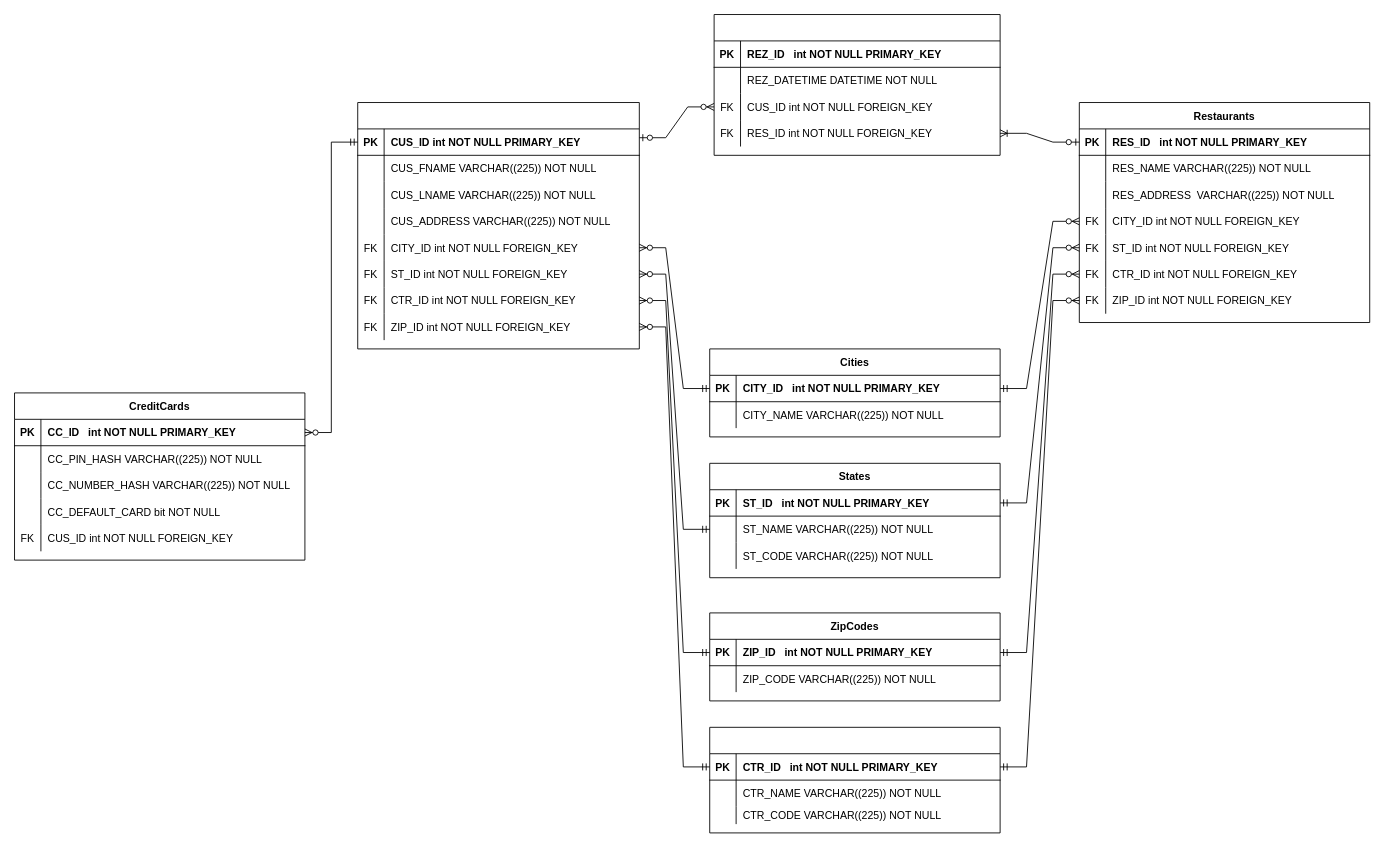
Some shapes in this 1384 by 847 pixel diagram are drawn without their labels. Here are the shapes that lost their labels. From the top down, the box of each, then its label:
(713, 14, 1000, 155): Reservations
(357, 102, 639, 349): Customers
(709, 726, 1000, 833): Countries
